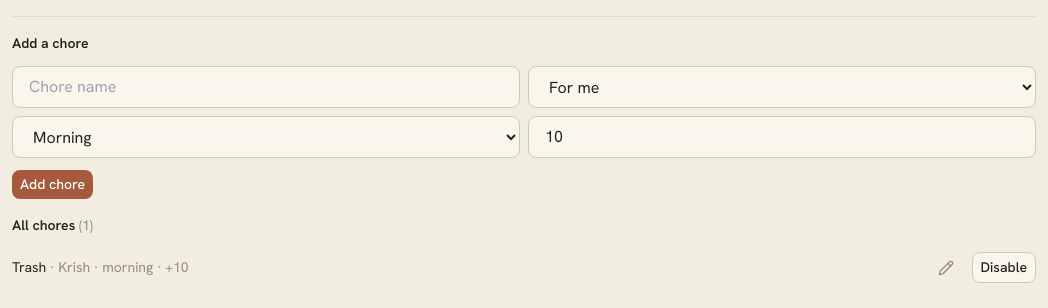
ChoreManagePanel › cancels an inline edit without saving
This screenshot has width=1048, height=308.
Step 1. Click the button named "edit trash" → (946, 268), box [932, 254, 960, 282]
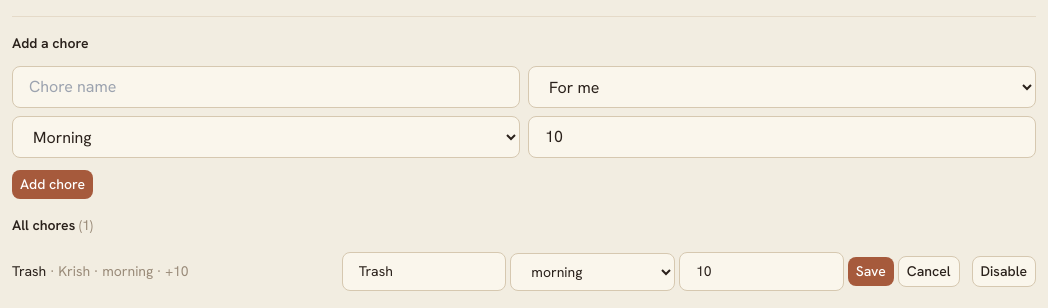
Step 2. Click the button "Cancel" → (929, 272), box [898, 256, 960, 287]
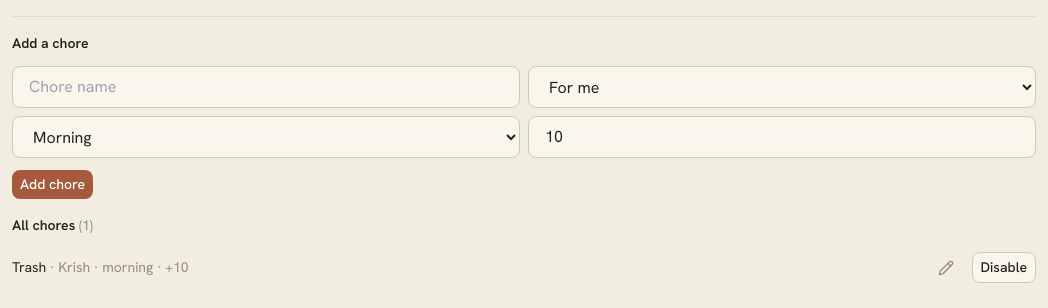
Check: the button "Save" is gone
